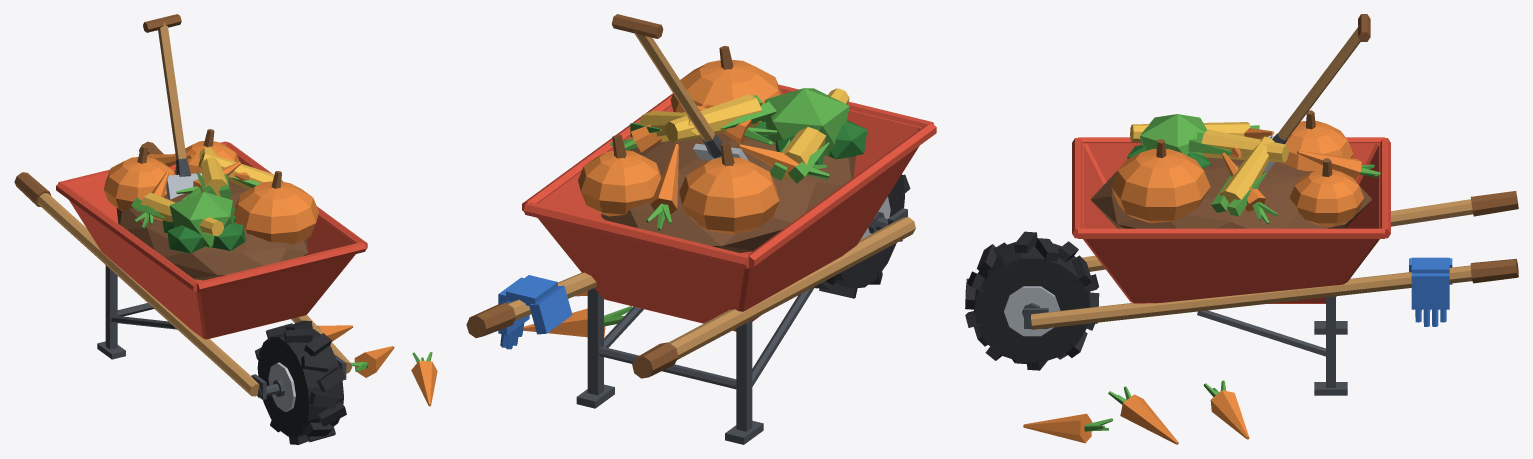
Rendered from harvest-wheelbarrow.glb.
The picture shows the model from 3 angles, left to right: view 1: azimuth 30°, elevation 25°; view 2: azimuth 150°, elevation 25°; view 3: azimuth 270°, elevation 25°; orthographic projection. The views are drawn at different scales.
Parts seen in each view (by area): view 1: Tray, Wheel, Frame, Pile, Pumpkin_1, Cabbage, Corn, Spade, Pumpkin_2, Carrots_Fallen, Carrots, Pumpkin_3; view 2: Tray, Frame, Pile, Pumpkin_2, Corn, Cabbage, Pumpkin_3, Carrots, Pumpkin_1, Spade, Glove, Wheel (+1 smaller); view 3: Tray, Wheel, Frame, Pile, Pumpkin_1, Corn, Carrots_Fallen, Pumpkin_3, Glove, Pumpkin_2, Cabbage, Carrots (+1 smaller).
Boxes of the visible parts, x1=… form: Tray: x1=56, y1=141, x2=367, y2=339; Wheel: x1=255, y1=320, x2=346, y2=444; Frame: x1=14, y1=141, x2=352, y2=399; Pile: x1=116, y1=170, x2=307, y2=280; Pumpkin_1: x1=234, y1=171, x2=318, y2=244; Cabbage: x1=162, y1=192, x2=245, y2=253; Corn: x1=131, y1=147, x2=282, y2=236; Spade: x1=143, y1=14, x2=202, y2=199; Pumpkin_2: x1=103, y1=145, x2=175, y2=210; Carrots_Fallen: x1=317, y1=325, x2=437, y2=406; Carrots: x1=134, y1=154, x2=249, y2=228; Pumpkin_3: x1=175, y1=129, x2=239, y2=173; Tray: x1=522, y1=84, x2=936, y2=331; Frame: x1=466, y1=208, x2=915, y2=444; Pile: x1=601, y1=133, x2=855, y2=252; Pumpkin_2: x1=679, y1=142, x2=779, y2=234; Corn: x1=630, y1=88, x2=849, y2=183; Cabbage: x1=753, y1=88, x2=867, y2=164; Pumpkin_3: x1=578, y1=134, x2=661, y2=216; Carrots: x1=610, y1=103, x2=829, y2=230; Pumpkin_1: x1=670, y1=46, x2=782, y2=112; Spade: x1=611, y1=14, x2=748, y2=160; Glove: x1=498, y1=275, x2=572, y2=349; Wheel: x1=814, y1=174, x2=910, y2=298; Tray: x1=1072, y1=137, x2=1390, y2=303; Wheel: x1=965, y1=231, x2=1099, y2=370; Frame: x1=1024, y1=191, x2=1518, y2=395; Pile: x1=1091, y1=157, x2=1371, y2=228; Pumpkin_1: x1=1111, y1=139, x2=1210, y2=223; Corn: x1=1130, y1=122, x2=1288, y2=216; Carrots_Fallen: x1=1023, y1=380, x2=1249, y2=444; Pumpkin_3: x1=1290, y1=158, x2=1363, y2=226; Glove: x1=1409, y1=257, x2=1452, y2=326; Pumpkin_2: x1=1280, y1=110, x2=1353, y2=171; Cabbage: x1=1127, y1=114, x2=1210, y2=168; Carrots: x1=1222, y1=128, x2=1380, y2=224.
Size of the model in its own units: 3.91 by 4.57 by 6.67.
